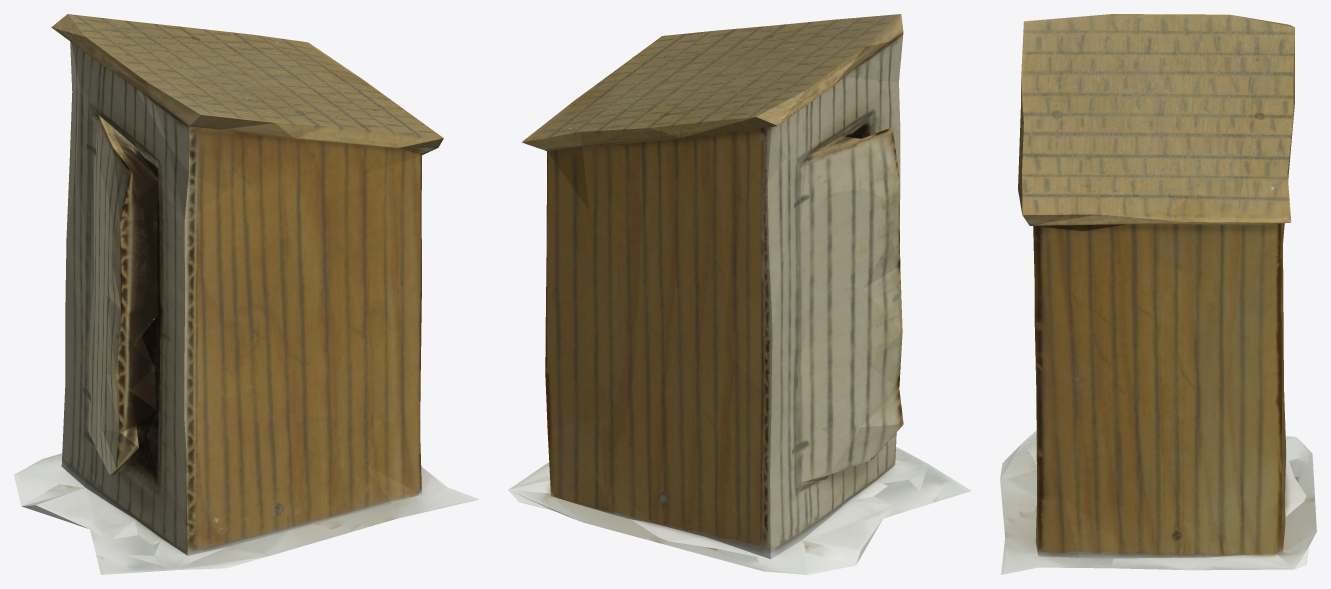
Rendered from mdl_bat_ete_37.fbx.
3 renders of one model, left to right at view 1: azimuth 30°, elevation 25°; view 2: azimuth 150°, elevation 25°; view 3: azimuth 270°, elevation 25°, orthographic. The views are drawn at different scales.
Parts seen in each view (by area): view 1: mdl_bat_ete_37; view 2: mdl_bat_ete_37; view 3: mdl_bat_ete_37.
Part boxes in pixels (<box>): mdl_bat_ete_37: <box>14,14,479,574</box>; mdl_bat_ete_37: <box>508,14,971,574</box>; mdl_bat_ete_37: <box>1000,14,1316,574</box>.
Bounding box in the file's own units: 3.98 × 5.03 × 3.19.
1 material, 1 textured.
